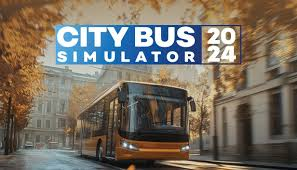bus: (73, 80, 197, 165)
